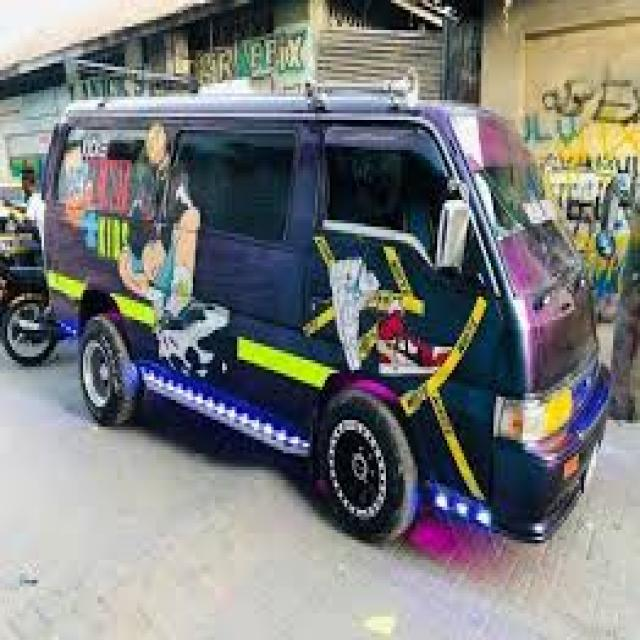matatu: (34, 17, 624, 573)
